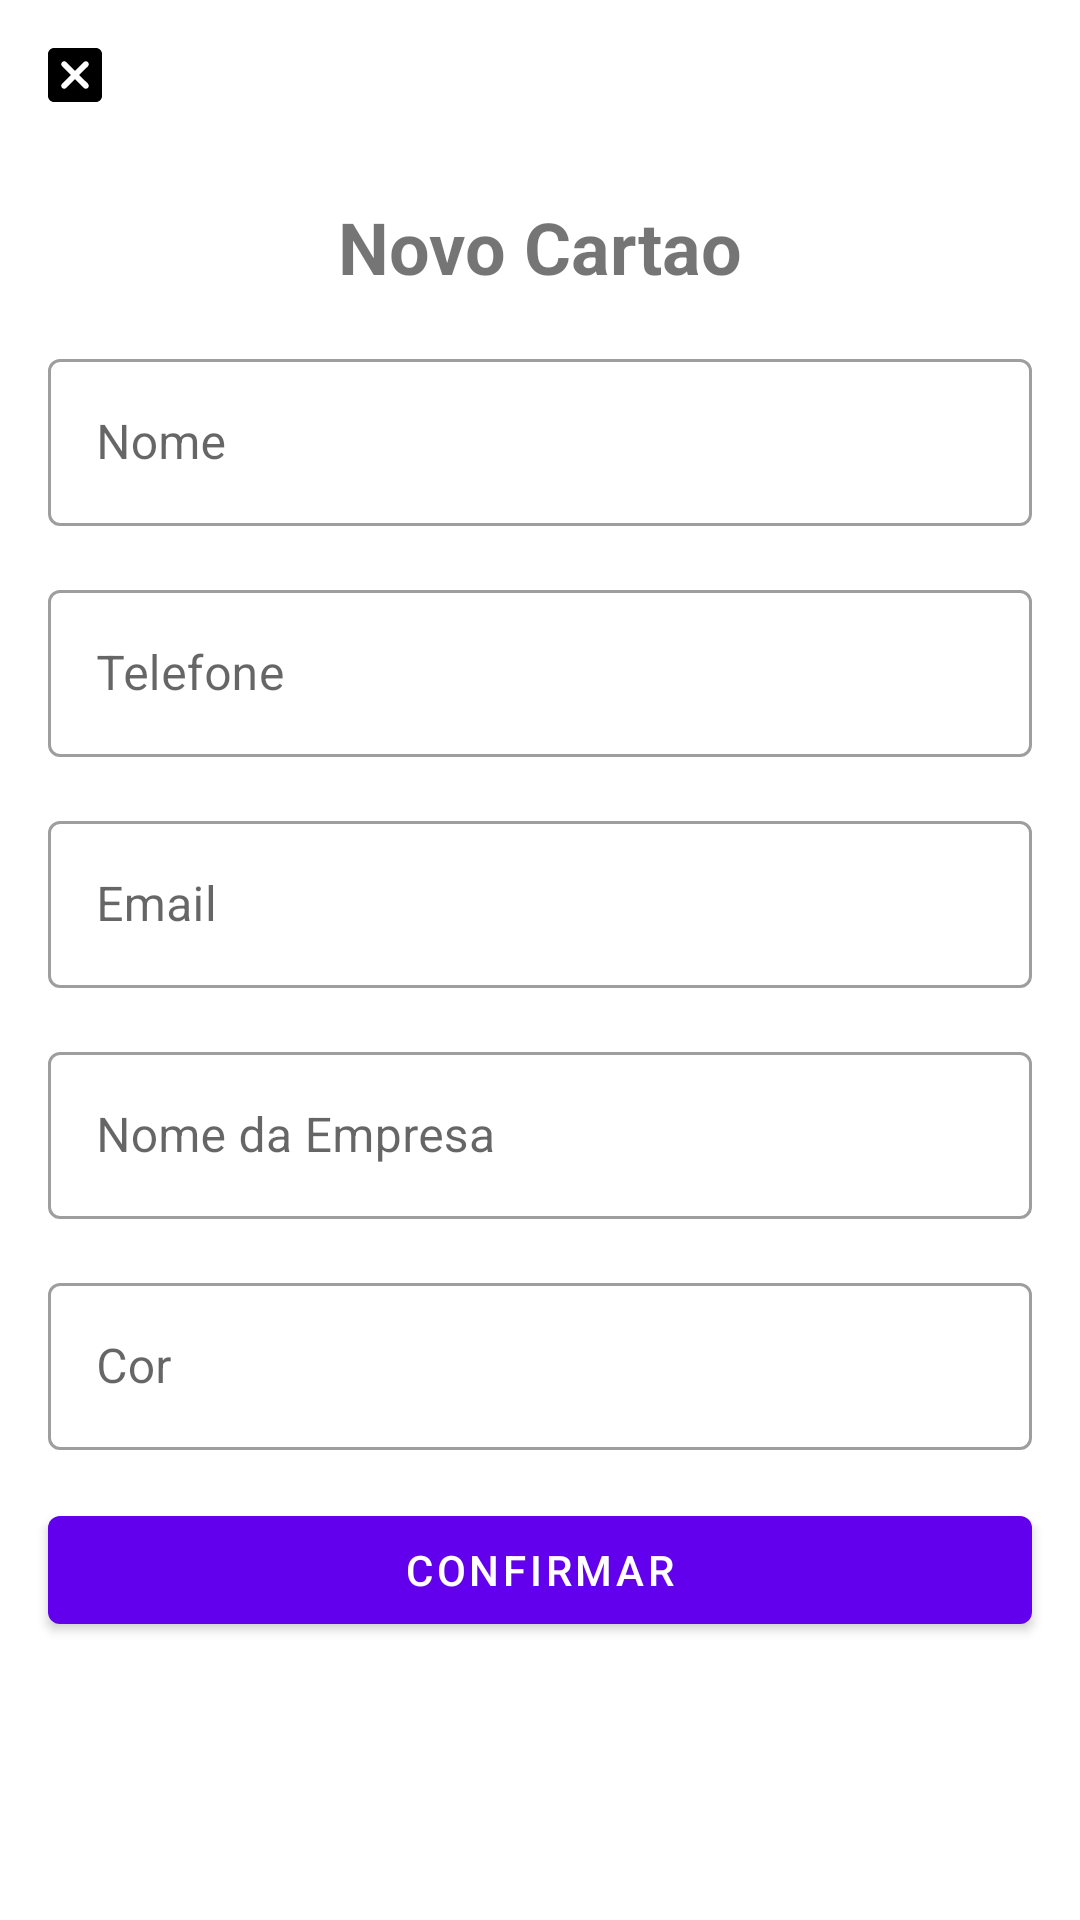

Point at icon controls on the screen. Image size 1080 × 1920, points as (x=x, y=y).
close: (x=75, y=75)
